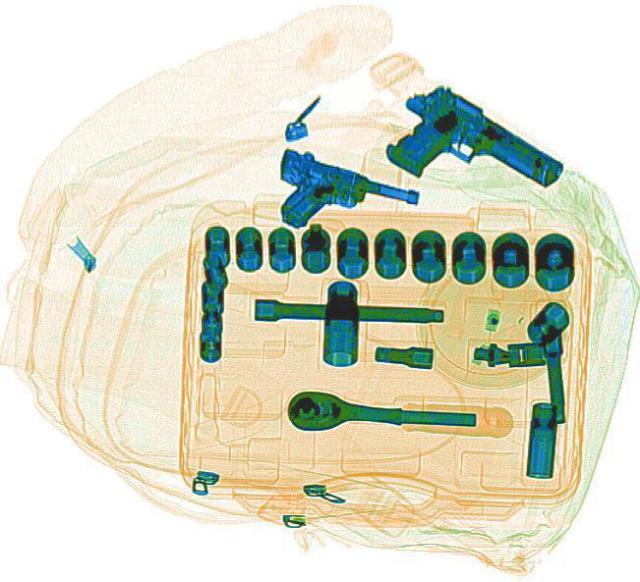Gun: (362, 73, 570, 232), (253, 143, 424, 258)
